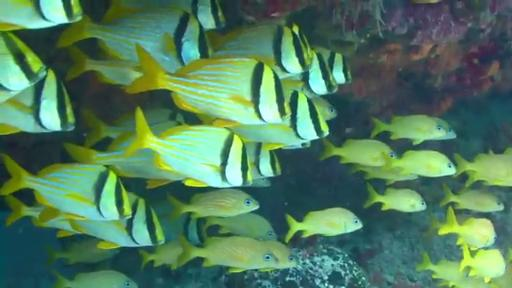Fish: (126, 44, 290, 126), (125, 108, 251, 187), (57, 8, 210, 71), (0, 156, 131, 221), (229, 91, 329, 149), (212, 23, 314, 77), (64, 144, 185, 188), (68, 195, 164, 249), (0, 70, 75, 135), (104, 0, 225, 30), (178, 236, 278, 272), (4, 196, 79, 237), (66, 47, 141, 85), (0, 32, 47, 91), (285, 208, 363, 242), (0, 0, 83, 31), (168, 189, 259, 217), (283, 52, 338, 97), (372, 115, 456, 144), (438, 207, 496, 248), (320, 139, 396, 166), (204, 213, 276, 240), (83, 110, 135, 147), (454, 154, 511, 187), (385, 151, 456, 177), (47, 239, 119, 264), (364, 184, 427, 212), (460, 244, 506, 282), (440, 185, 503, 211), (416, 252, 467, 282), (314, 47, 351, 84), (53, 271, 138, 287), (246, 143, 281, 181), (352, 165, 418, 184), (140, 241, 183, 269), (260, 240, 298, 271), (312, 97, 337, 120), (492, 265, 511, 287), (0, 88, 22, 103), (243, 178, 271, 187), (281, 142, 311, 149)
